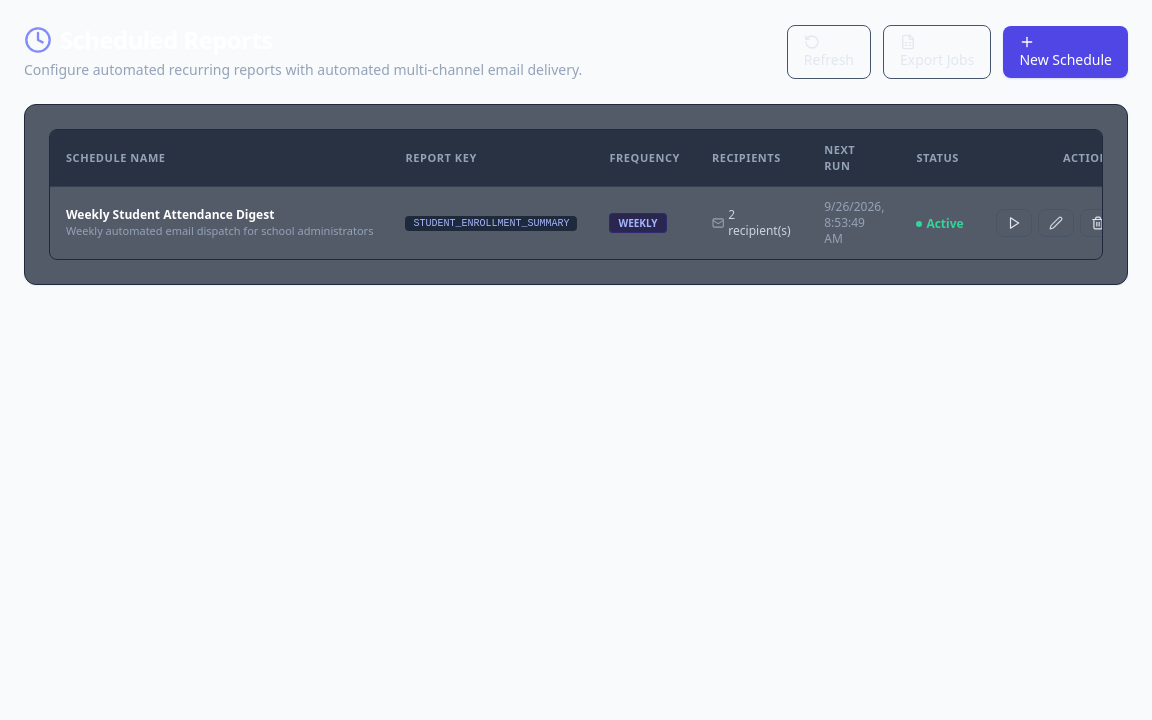
Test: Phase 20: Reports & Analytics Frontend Component Suite › ScheduledReportsPage › renders list of recurring schedules and opens creation modal
Expected: the heading "Scheduled Reports" is shown, left=24, top=23, right=272, bottom=56
Expected: the text "Weekly Student Attendance Digest" is shown, left=66, top=206, right=274, bottom=223
Open new schedule modal
Click the button "New Schedule": (1066, 52) left=1003, top=26, right=1128, bottom=78
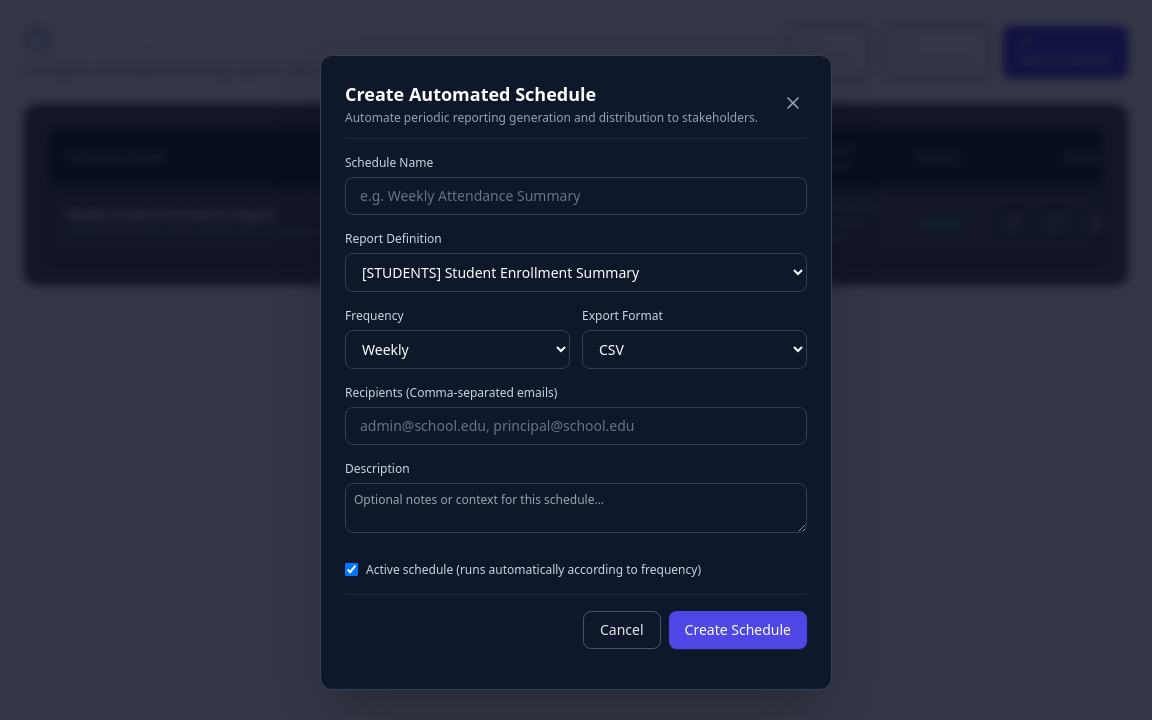
Expected: the heading "Create Automated Schedule" is shown, left=345, top=82, right=596, bottom=106
